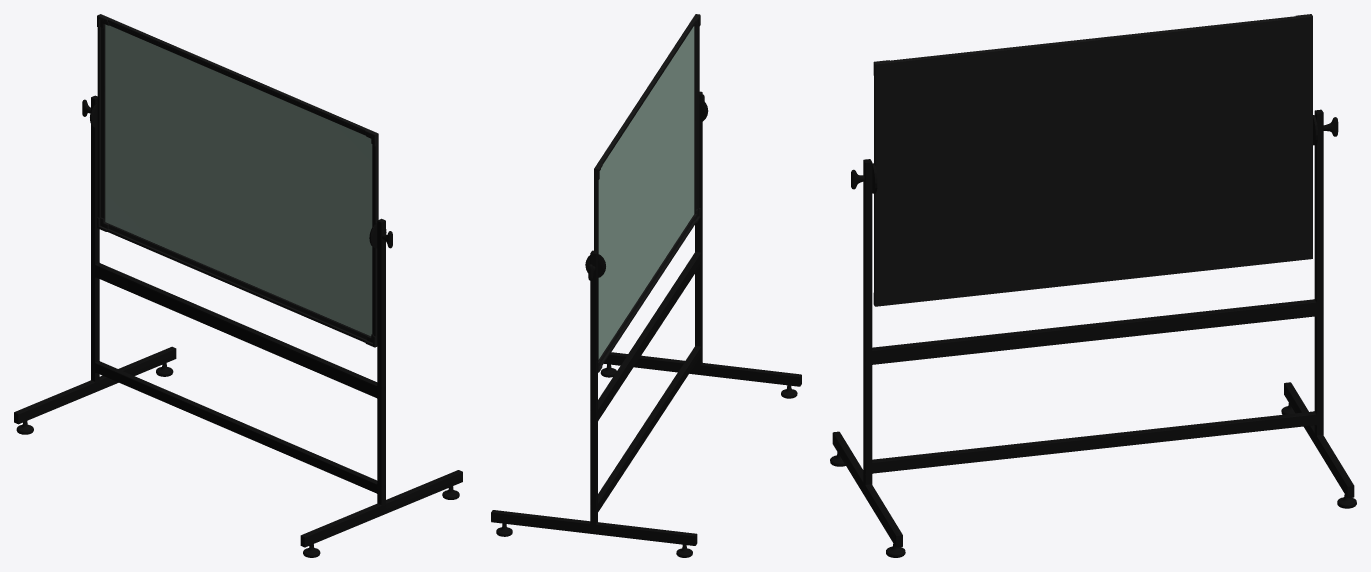
The model's file is board.fbx.
3 renders of one model, left to right at view 1: azimuth 30°, elevation 25°; view 2: azimuth 150°, elevation 25°; view 3: azimuth 270°, elevation 25°, orthographic. The views are drawn at different scales.
Parts seen in each view (by area): view 1: Box01, Box03; view 2: Box01, Box03; view 3: Box01, Box03.
Part boxes in pixels (x1,y1,x2,y2): Box01: (97,14,378,347); Box03: (14,95,462,547); Box01: (594,14,700,372); Box03: (491,91,801,545); Box01: (873,14,1312,306); Box03: (832,109,1354,547).
Size of the model in its own units: 1004 by 1357 by 1456.
